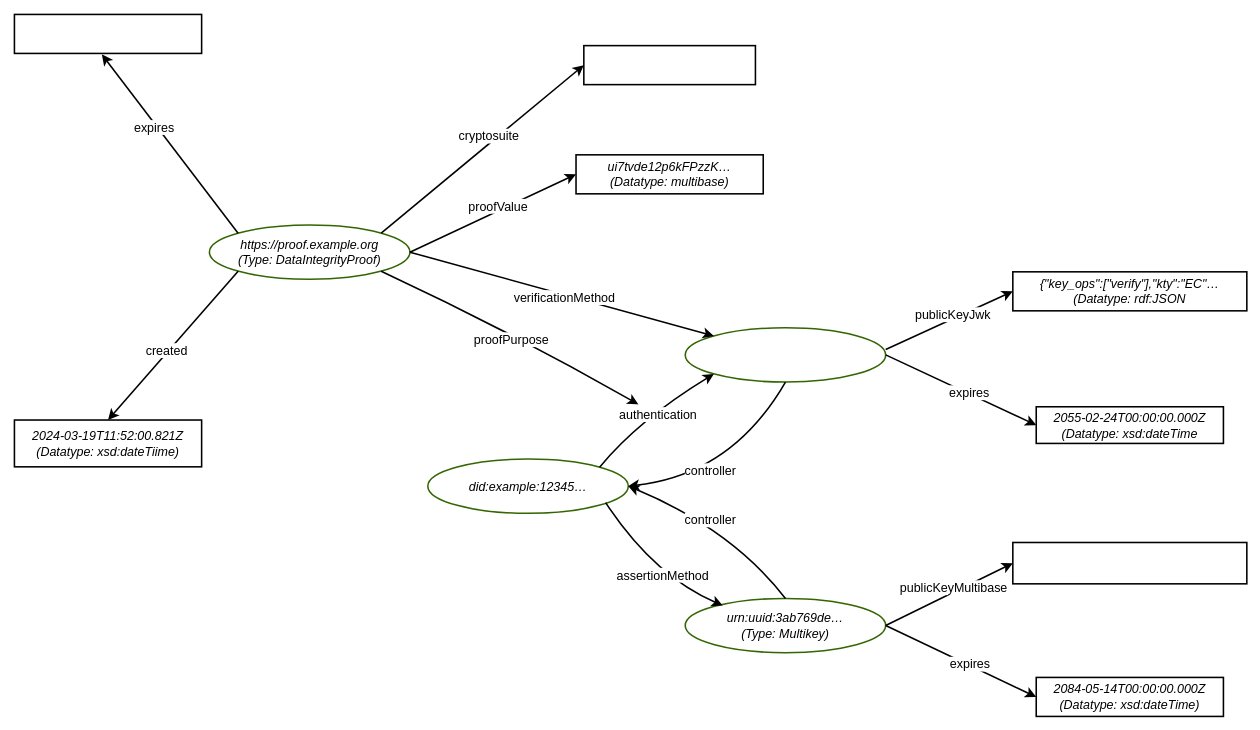
The diagram is 1260 pixels wide and 730 high, and some of its shapes have lost their labels. Here are the shapes that lost their labels. From the top down, the box of each, then its label:
(13, 13, 202, 54): 2044-03-19T 11:52:00.821Z (Datatype: xsd:dateTime)
(583, 44, 756, 85): ecdsa-2022 (Datatype: cryptosuiteString)
(684, 327, 886, 382): urn:uuid:382c8f68… (Type: JsonWebKey)
(1012, 541, 1247, 584): z6MkmM42vxfqZQsv4eh… (Datatype: multibase)
